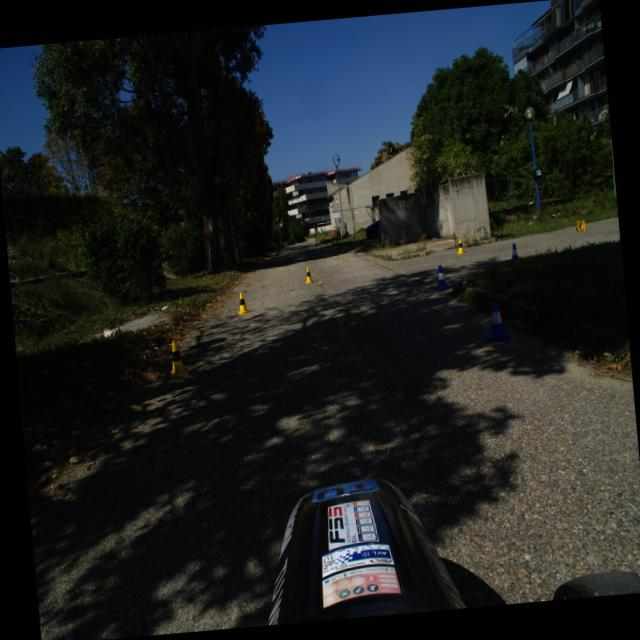blue_cone: (481, 296, 512, 344), (432, 264, 450, 290), (511, 242, 518, 260)
yellow_cone: (164, 338, 190, 377), (235, 291, 249, 314), (302, 266, 314, 284), (455, 238, 465, 254), (574, 220, 586, 231)
